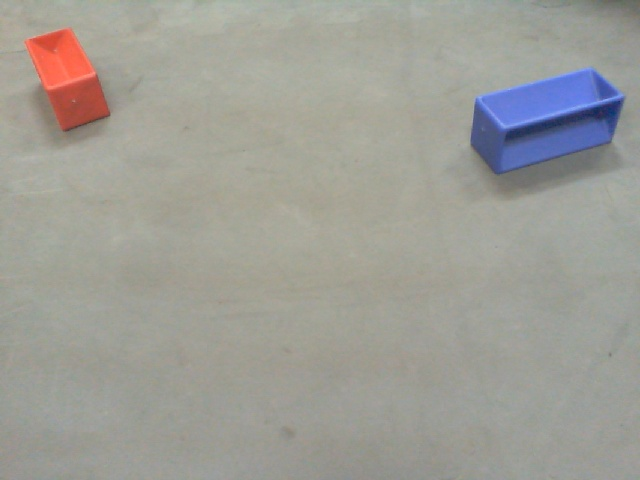BlueSample: (466, 59, 627, 178)
RedSample: (24, 24, 112, 135)
